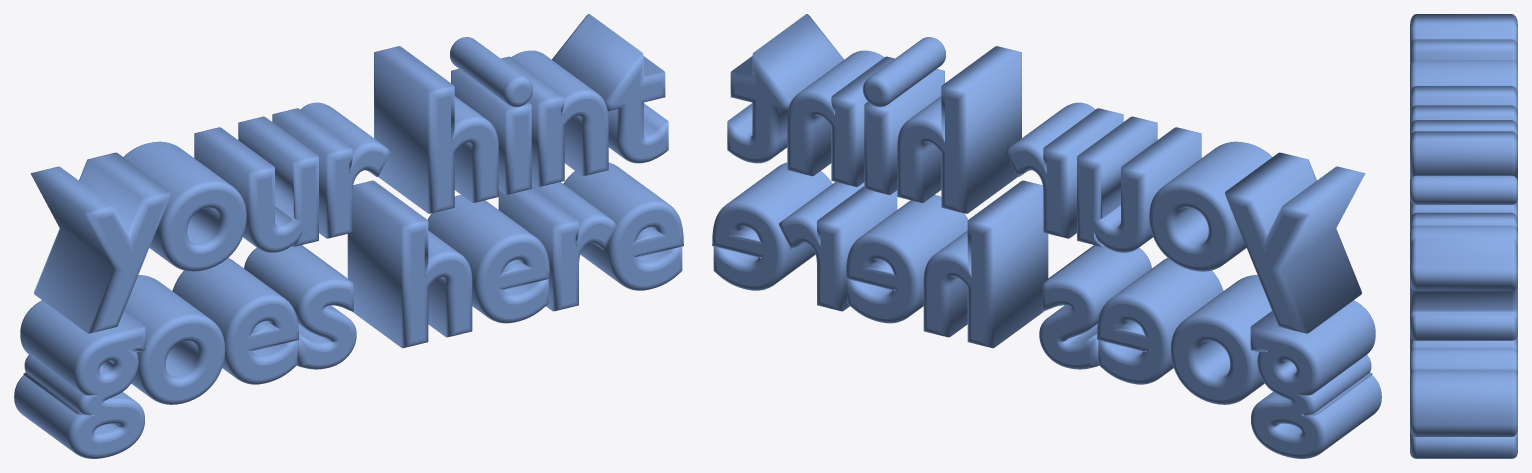
Rendered from hint.glb.
The picture shows the model from 3 angles, left to right: view 1: azimuth 30°, elevation 25°; view 2: azimuth 150°, elevation 25°; view 3: azimuth 270°, elevation 25°; orthographic projection. The views are drawn at different scales.
Visible parts, largest first — view 1: Text; view 2: Text; view 3: Text.
Boxes of the visible parts, <box> form: Text: <box>14,14,683,458</box>; Text: <box>712,14,1381,458</box>; Text: <box>1410,14,1517,458</box>.
Size of the model in its own units: 4.02 by 1.79 by 0.68.
